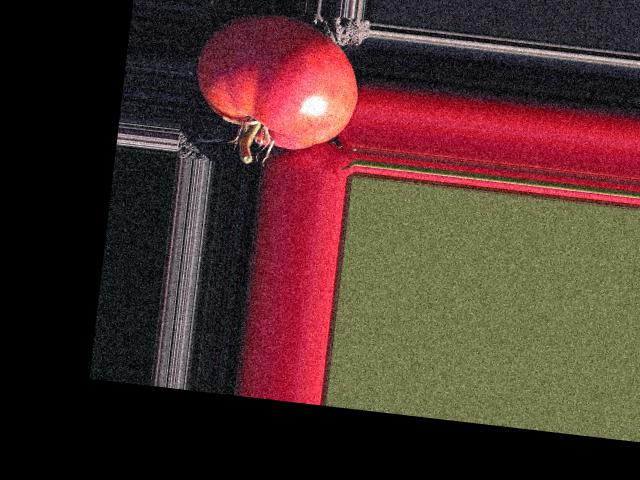tomato: (189, 6, 365, 154)
